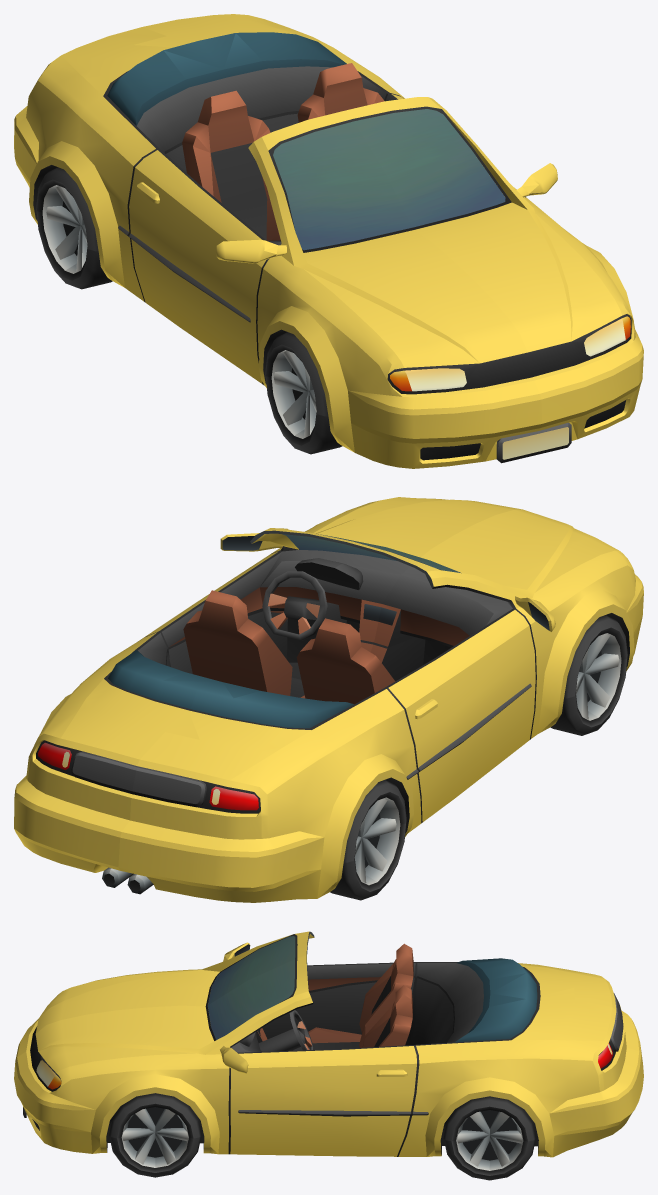
The model's file is Car.fbx.
The picture shows the model from 3 angles, top to bottom: view 1: azimuth 30°, elevation 25°; view 2: azimuth 150°, elevation 25°; view 3: azimuth 270°, elevation 25°; orthographic projection. The views are drawn at different scales.
Parts seen in each view (by area): view 1: Car; view 2: Car; view 3: Car.
Part boxes in pixels (x1=…): Car: x1=14, y1=14, x2=643, y2=468; Car: x1=14, y1=497, x2=643, y2=902; Car: x1=14, y1=931, x2=643, y2=1180.
Size of the model in its own units: 18.46 by 11.96 by 40.28.
Materials: 1 (1 with a texture image).
